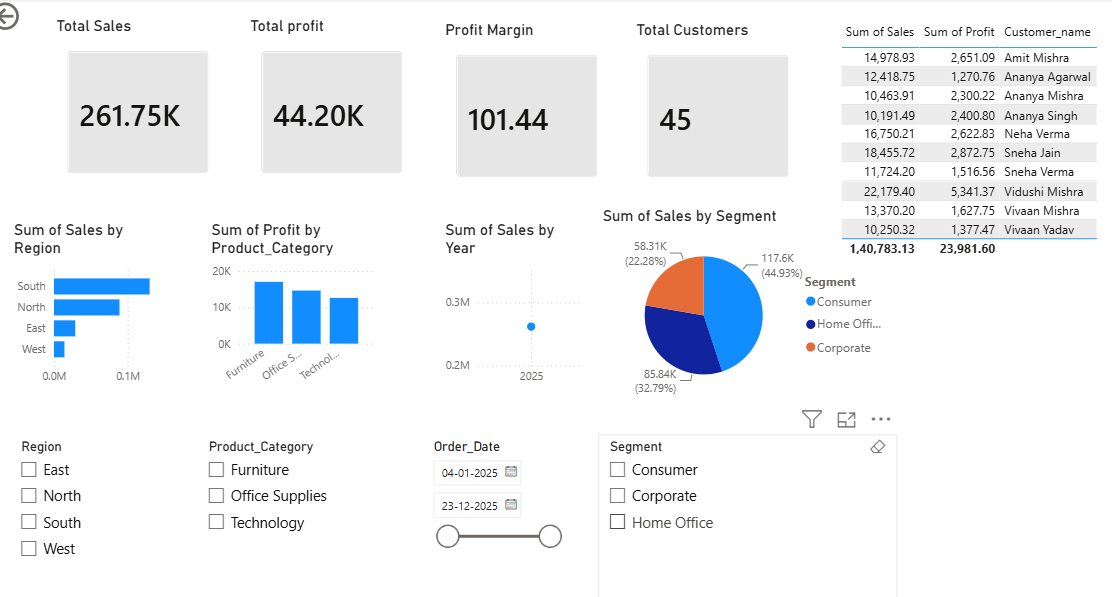

This screenshot's page, from the dashboard's own definition file:
{"tool":"powerbi","page":{"name":"Page 1","canvas":[1280,720],"ordinal":0},"visuals":[{"type":"cardVisual","title":"Total Sales","fields":{"Data":["Sum(orders_dataset.Sales)"]},"box":[71.4,20.6,189.4,189.4],"z":0},{"type":"cardVisual","title":"Total profit","fields":{"Data":["Sum(orders_dataset.Profit)"]},"box":[284,20.6,189.4,189.4],"z":1000},{"type":"actionButton","box":[0,0,100,40],"z":2000},{"type":"cardVisual","title":"Profit Margin","fields":{"Data":["Avg(orders_dataset.Profit Margin_new)"]},"box":[498.1,24.7,189.4,189.4],"z":3000},{"type":"cardVisual","title":"Total Customers","fields":{"Data":["Count(orders_dataset.Customer_ID)"]},"box":[708.1,24.7,189.4,189.4],"z":4000},{"type":"clusteredBarChart","fields":{"Category":["orders_dataset.Region"],"Y":["Sum(orders_dataset.Sales)"]},"box":[24.7,244.3,189.4,189.4],"z":5000},{"type":"clusteredColumnChart","fields":{"Category":["orders_dataset.Product_Category"],"Y":["Sum(orders_dataset.Profit)"]},"box":[241.5,244.3,189.4,189.4],"z":6000},{"type":"lineChart","fields":{"Y":["Sum(orders_dataset.Sales)"],"Category":["orders_dataset.Order_Date.Variation.Date Hierarchy.Year","orders_dataset.Order_Date.Variation.Date Hierarchy.Quarter","orders_dataset.Order_Date.Variation.Date Hierarchy.Month","orders_dataset.Order_Date.Variation.Date Hierarchy.Day"]},"box":[498.1,244.3,161.9,189.4],"z":7000},{"type":"pieChart","fields":{"Category":["orders_dataset.Segment"],"Y":["Sum(orders_dataset.Sales)"]},"box":[671,229.2,328,218.2],"z":8000},{"type":"tableEx","fields":{"Values":["Sum(orders_dataset.Sales)","Sum(orders_dataset.Profit)","orders_dataset.Customer_name"]},"box":[931.7,20.6,321.1,277.2],"z":9000},{"type":"slicer","fields":{"Values":["orders_dataset.Region"]},"box":[25,479,189,189],"z":9001},{"type":"slicer","fields":{"Values":["orders_dataset.Product_Category"]},"box":[230.5,478.9,189.4,189.4],"z":9002},{"type":"slicer","fields":{"Values":["orders_dataset.Order_Date"]},"box":[477.5,478.9,161.9,189.4],"z":9003},{"type":"slicer","fields":{"Values":["orders_dataset.Segment"]},"box":[671,478.9,328,189.4],"z":9004}]}

Visuals, with their boxes on the page's 1280x720 design canvas (x1, y1, x2, y2). These are canvas units, not pixel positions in the 1112x597 screenshot, which may show the page scaled, cropped or inside an application window:
"Total Sales" cardVisual: bbox(71, 21, 261, 210)
"Total profit" cardVisual: bbox(284, 21, 473, 210)
actionButton: bbox(0, 0, 100, 40)
"Profit Margin" cardVisual: bbox(498, 25, 688, 214)
"Total Customers" cardVisual: bbox(708, 25, 898, 214)
clusteredBarChart - orders_dataset.Region x Sum(orders_dataset.Sales): bbox(25, 244, 214, 434)
clusteredColumnChart - orders_dataset.Product_Category x Sum(orders_dataset.Profit): bbox(242, 244, 431, 434)
lineChart - Sum(orders_dataset.Sales) x orders_dataset.Order_Date.Variation.Date Hierarchy.Year: bbox(498, 244, 660, 434)
pieChart - orders_dataset.Segment x Sum(orders_dataset.Sales): bbox(671, 229, 999, 447)
tableEx - Sum(orders_dataset.Sales) x Sum(orders_dataset.Profit): bbox(932, 21, 1253, 298)
slicer - orders_dataset.Region: bbox(25, 479, 214, 668)
slicer - orders_dataset.Product_Category: bbox(230, 479, 420, 668)
slicer - orders_dataset.Order_Date: bbox(478, 479, 639, 668)
slicer - orders_dataset.Segment: bbox(671, 479, 999, 668)
